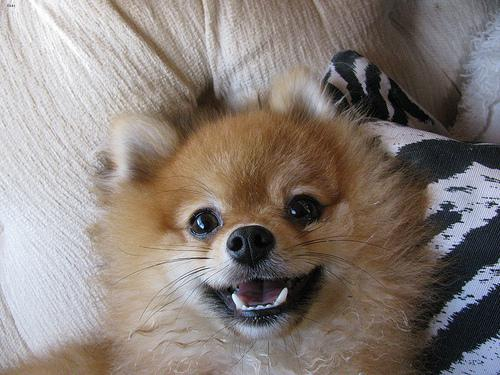dog: (107, 64, 352, 338)
